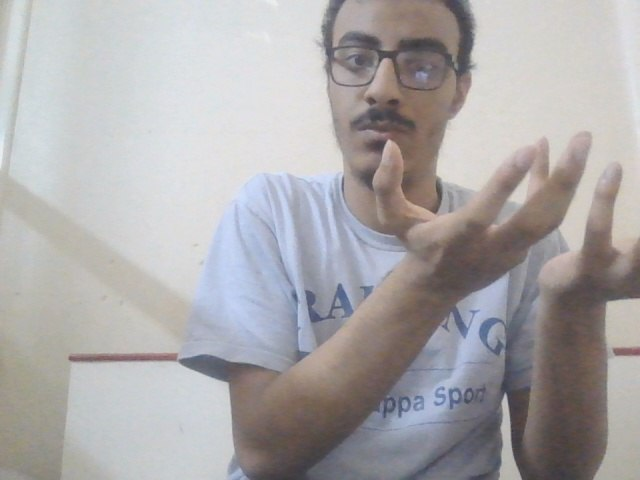What: (369, 130, 640, 313)
